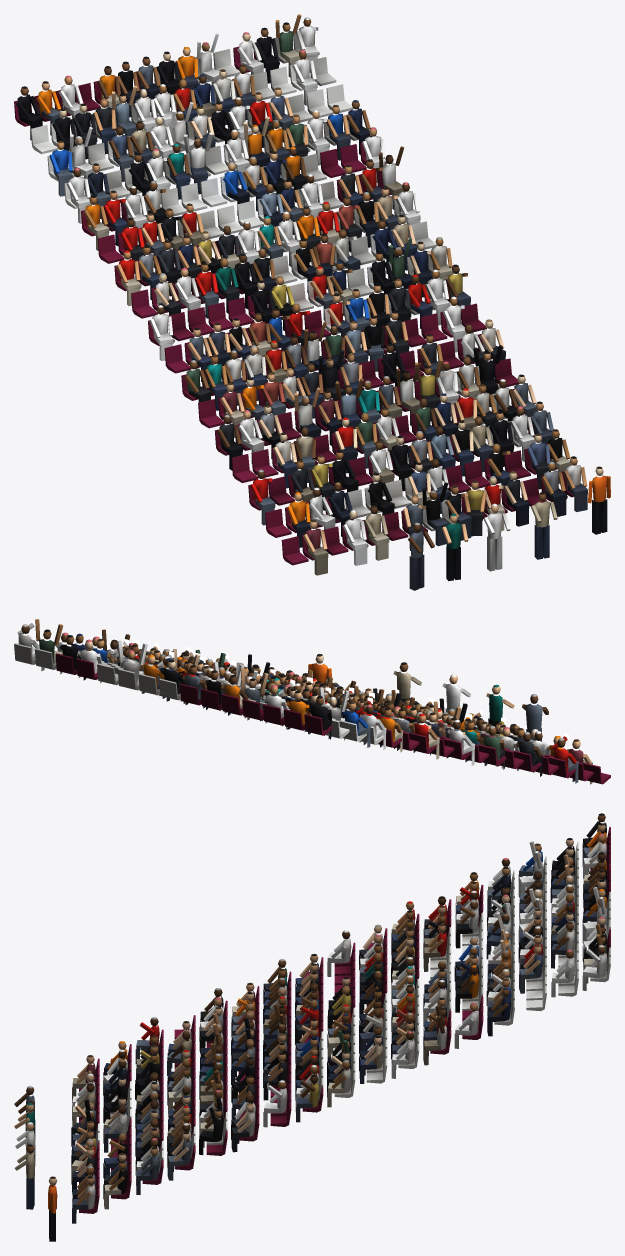
File: stand_T2_kit_5.glb
The picture shows the model from 3 angles, top to bottom: view 1: azimuth 30°, elevation 25°; view 2: azimuth 150°, elevation 25°; view 3: azimuth 270°, elevation 25°; orthographic projection. The views are drawn at different scales.
Parts seen in each view (by area): view 1: kit_5; view 2: kit_5; view 3: kit_5.
Part boxes in pixels (x1,y1,x2,y2): kit_5: [14, 14, 610, 590]; kit_5: [14, 619, 610, 784]; kit_5: [14, 813, 610, 1241].
Size of the model in its own units: 8.53 by 8.21 by 14.95.
